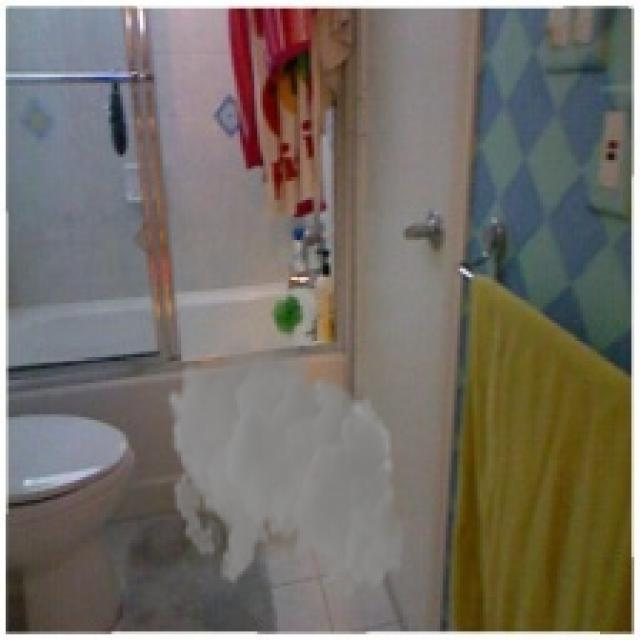smoke: (166, 323, 406, 600)
